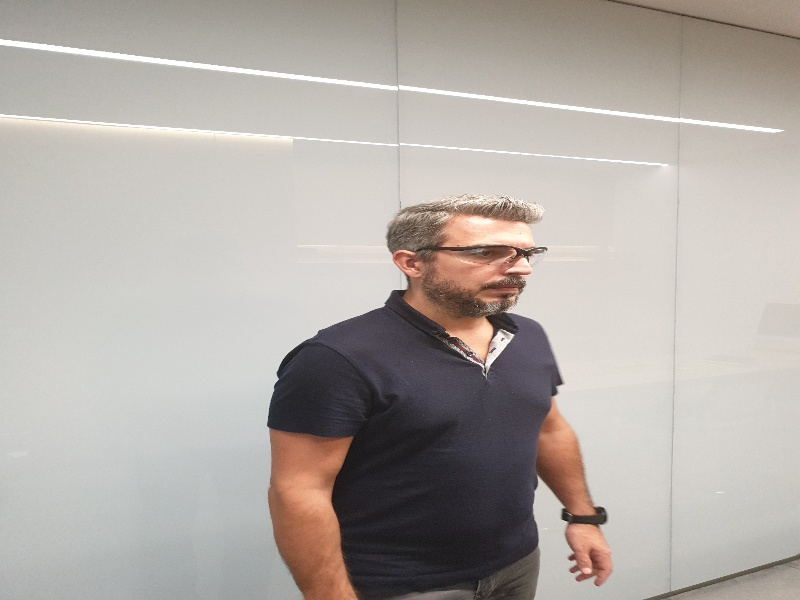Gozluk: (416, 243, 551, 263)
